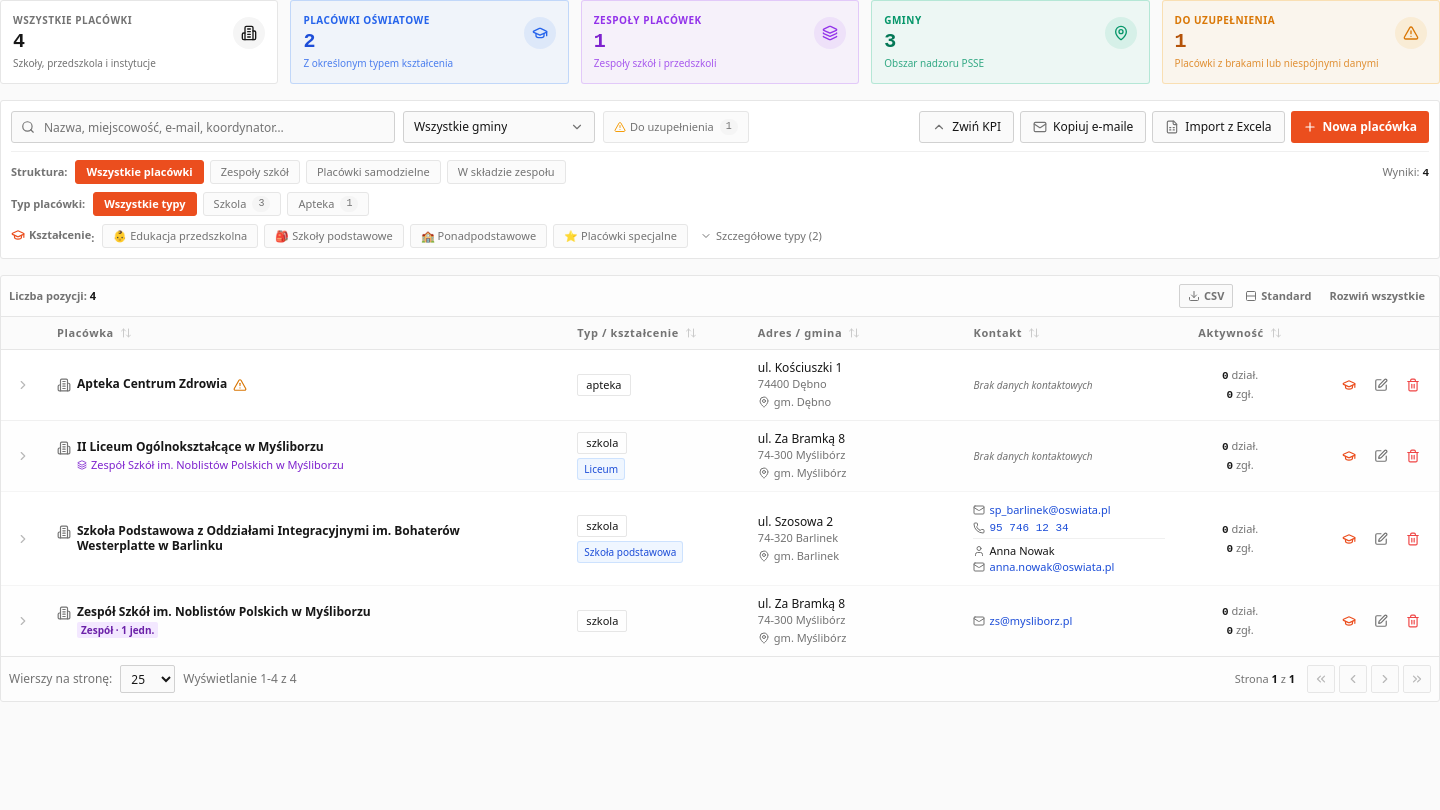
Test: FacilitiesSection › filters by search without diacritics and by dictionary type code
Type "noblistow" into the field named "Szukaj placówek" at (203, 127), box left=11, top=111, right=395, bottom=143
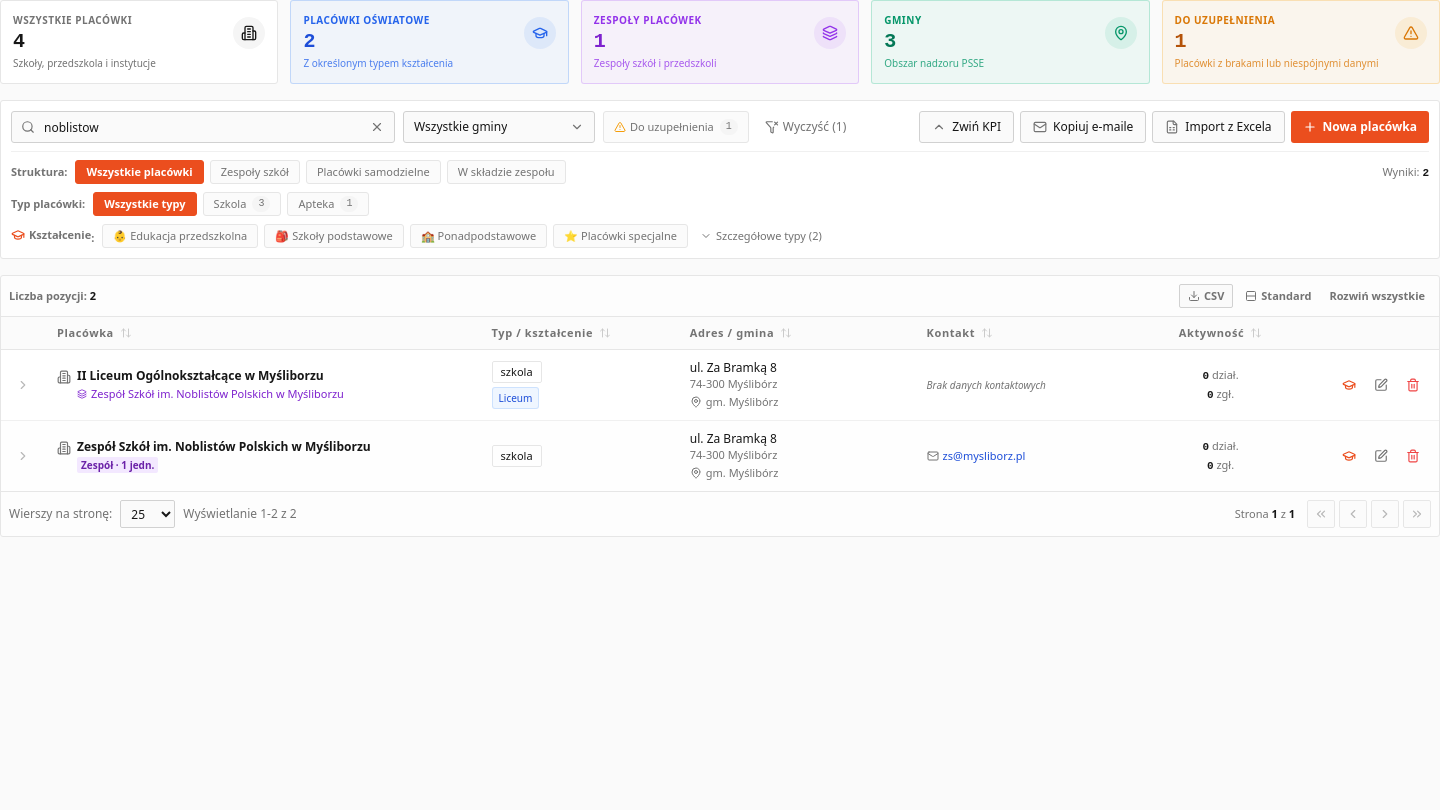
Check: the text "II Liceum Ogólnokształcące w Myśliborzu" is shown, box left=77, top=368, right=324, bottom=383
Check: the text "Szkoła Podstawowa z Oddziałami Integracyjnymi im. Bohaterów Westerplatte w Barlinku" is gone
Check: the text "Apteka Centrum Zdrowia" is gone
Clear the field named "Szukaj placówek" at (203, 127), box left=11, top=111, right=395, bottom=143
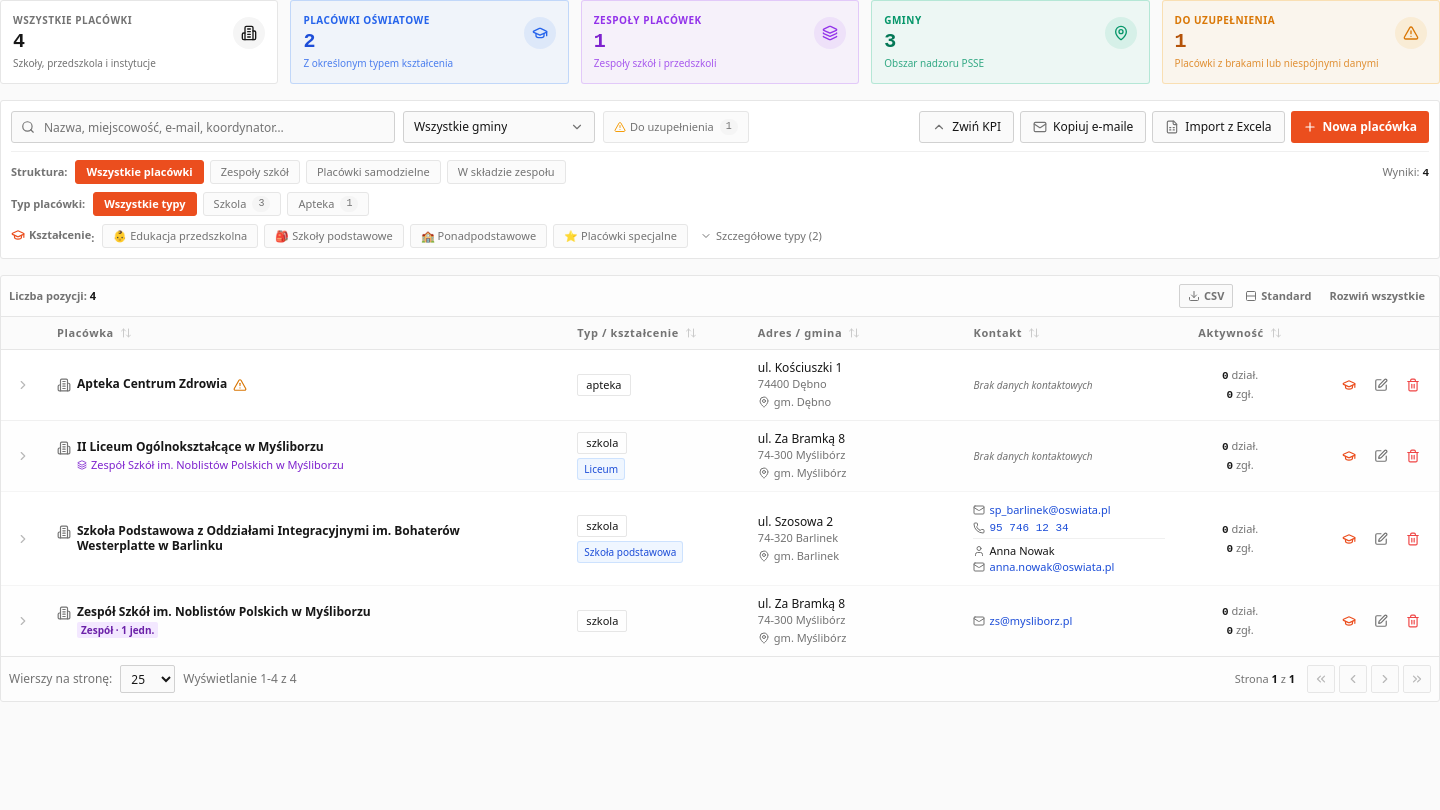
Click the button "apteka 1" at (328, 204), box left=287, top=192, right=369, bottom=216
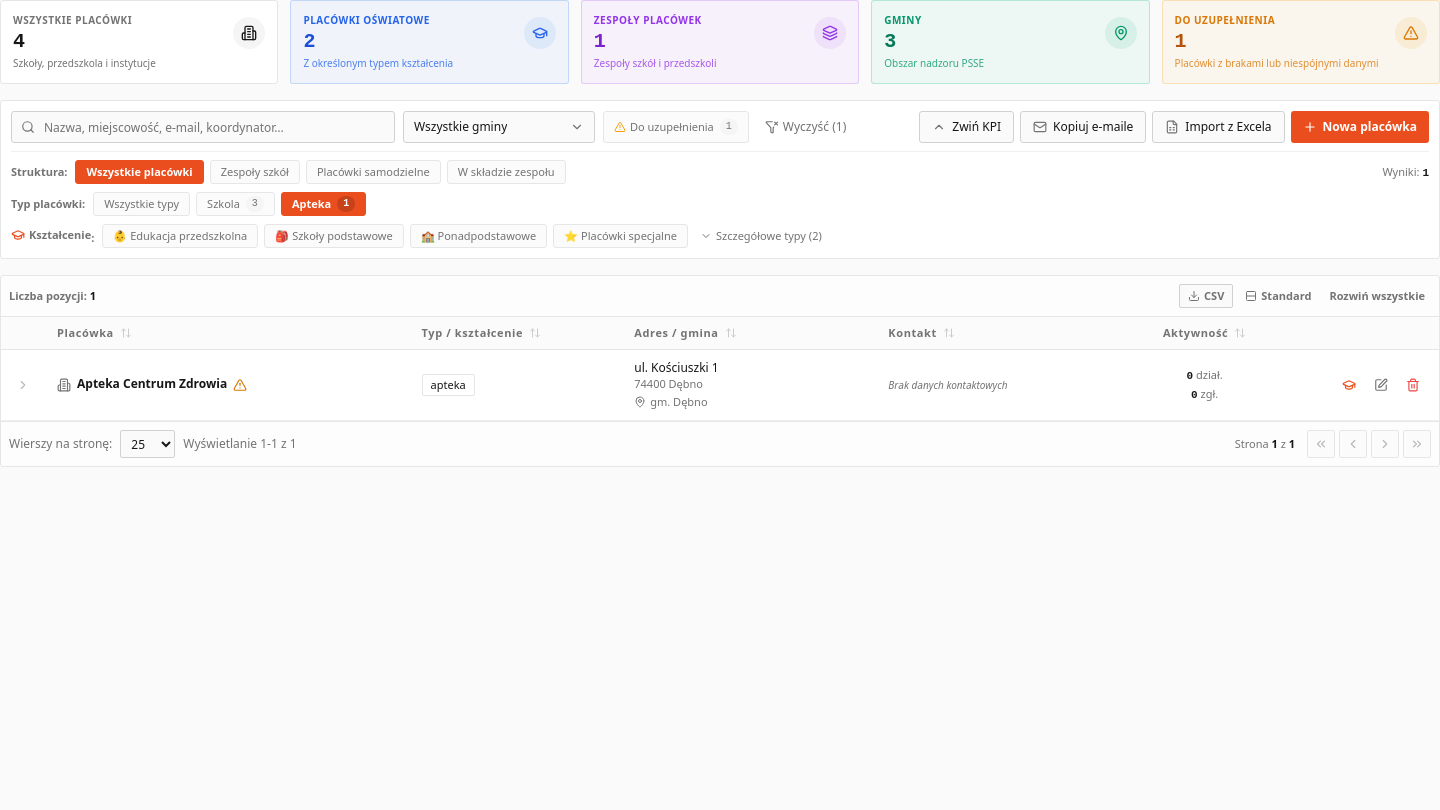
Check: the text "Apteka Centrum Zdrowia" is shown, box left=77, top=376, right=227, bottom=391
Check: the text "Szkoła Podstawowa z Oddziałami Integracyjnymi im. Bohaterów Westerplatte w Barlinku" is gone
